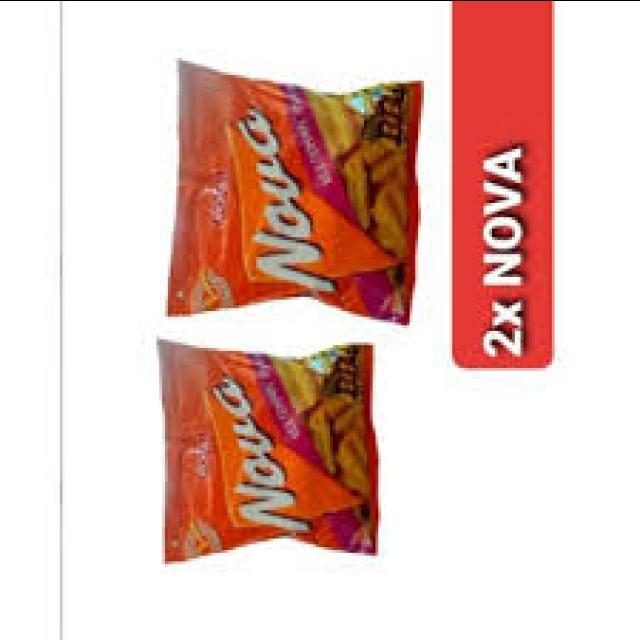junkfood wrapper: (159, 342, 377, 561)
